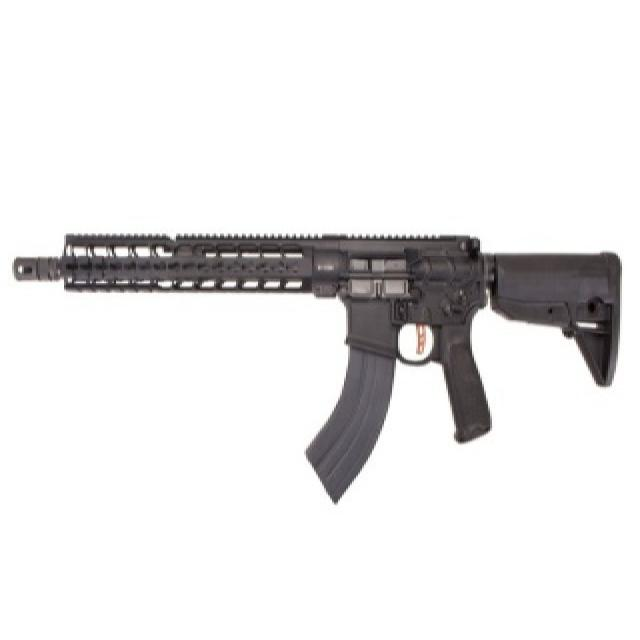rifle: (11, 230, 629, 506)
